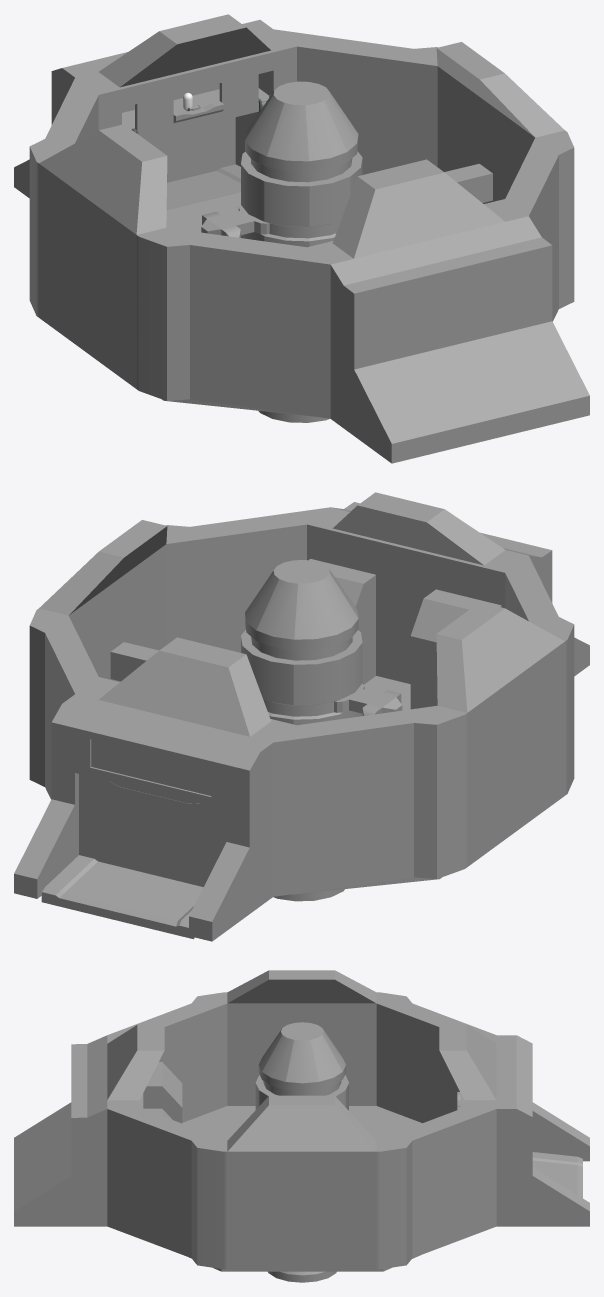
File: terminusV3Group.fbx
The picture shows the model from 3 angles, top to bottom: view 1: azimuth 30°, elevation 25°; view 2: azimuth 150°, elevation 25°; view 3: azimuth 270°, elevation 25°; orthographic projection. The views are drawn at different scales.
Parts seen in each view (by area): view 1: Outpost_Terminus, Rocket, T_Gate, Ramp, T_Floor, Brace_Rocket1, Brace_Rocket; view 2: Outpost_Terminus, Rocket, Ramp, T_Gate, T_Floor, Brace_Rocket1, Brace_Rocket; view 3: Outpost_Terminus, Rocket, T_Floor, Ramp.
Boxes of the visible parts, <box> form: Outpost_Terminus: <box>14,14,589,463</box>; Rocket: <box>241,81,362,422</box>; T_Gate: <box>145,121,220,182</box>; Ramp: <box>166,117,240,209</box>; T_Floor: <box>162,192,310,416</box>; Brace_Rocket1: <box>198,205,269,237</box>; Brace_Rocket: <box>444,163,492,202</box>; Outpost_Terminus: <box>14,492,589,941</box>; Rocket: <box>241,560,362,901</box>; Ramp: <box>41,774,226,939</box>; T_Gate: <box>94,777,215,886</box>; T_Floor: <box>291,559,501,894</box>; Brace_Rocket1: <box>334,683,404,715</box>; Brace_Rocket: <box>110,642,158,681</box>; Outpost_Terminus: <box>14,970,589,1269</box>; Rocket: <box>255,1022,348,1282</box>; T_Floor: <box>143,1062,421,1271</box>; Ramp: <box>532,1152,582,1198</box>.
Size of the model in its own units: 50.03 by 34.51 by 76.4.
